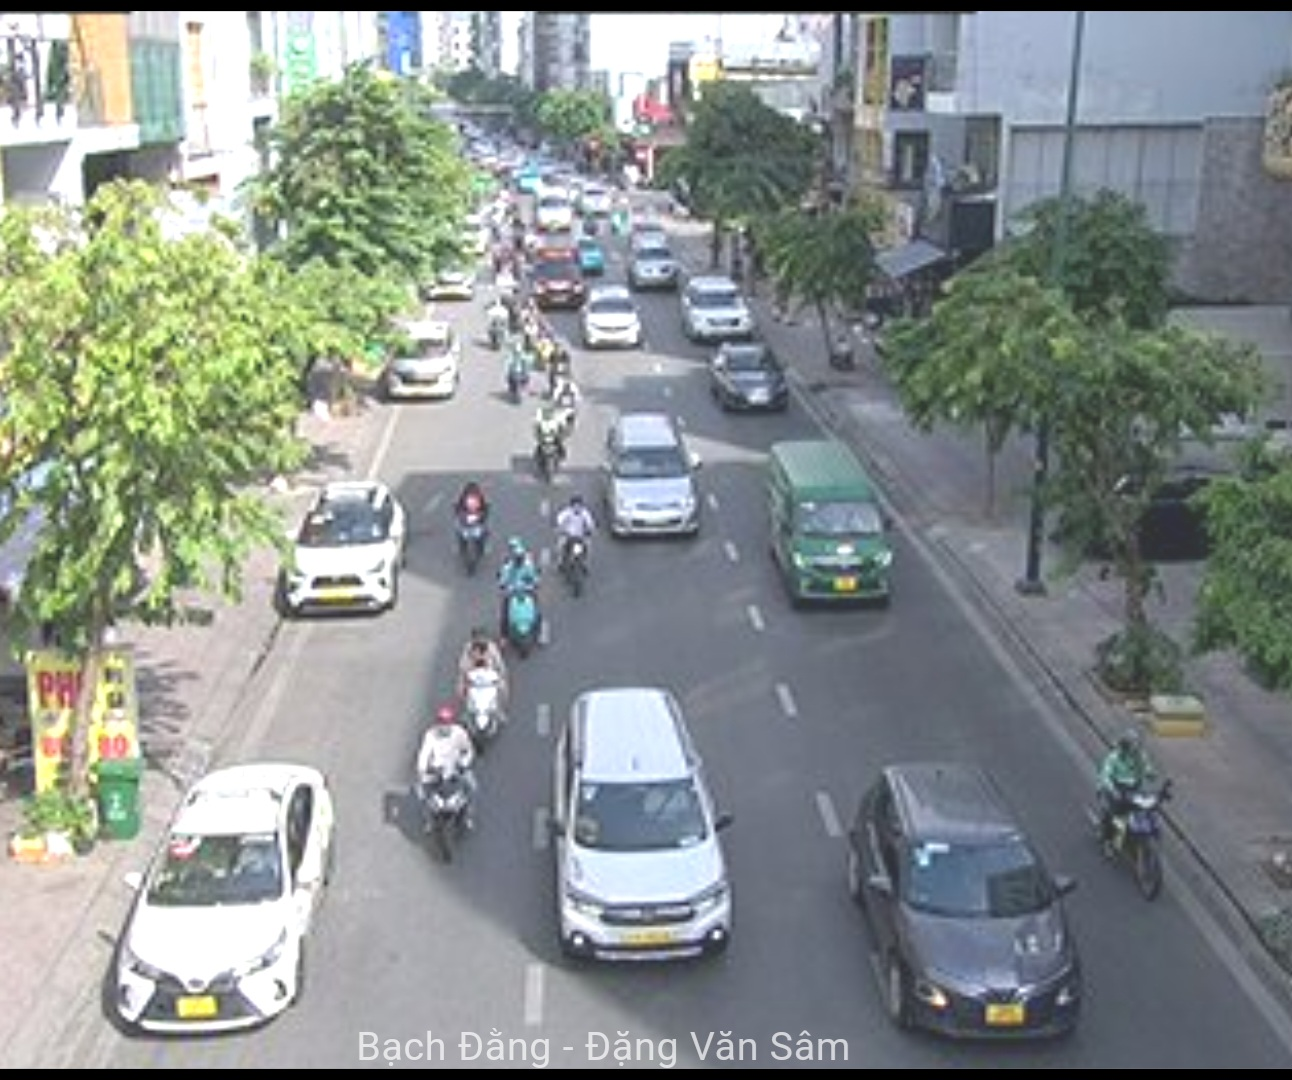car: (838, 772, 1087, 1041), (547, 690, 740, 964), (135, 767, 335, 1030), (761, 448, 896, 611), (277, 483, 412, 616), (596, 418, 710, 536), (708, 342, 793, 415), (385, 325, 463, 402), (675, 279, 762, 338), (577, 289, 645, 347)
